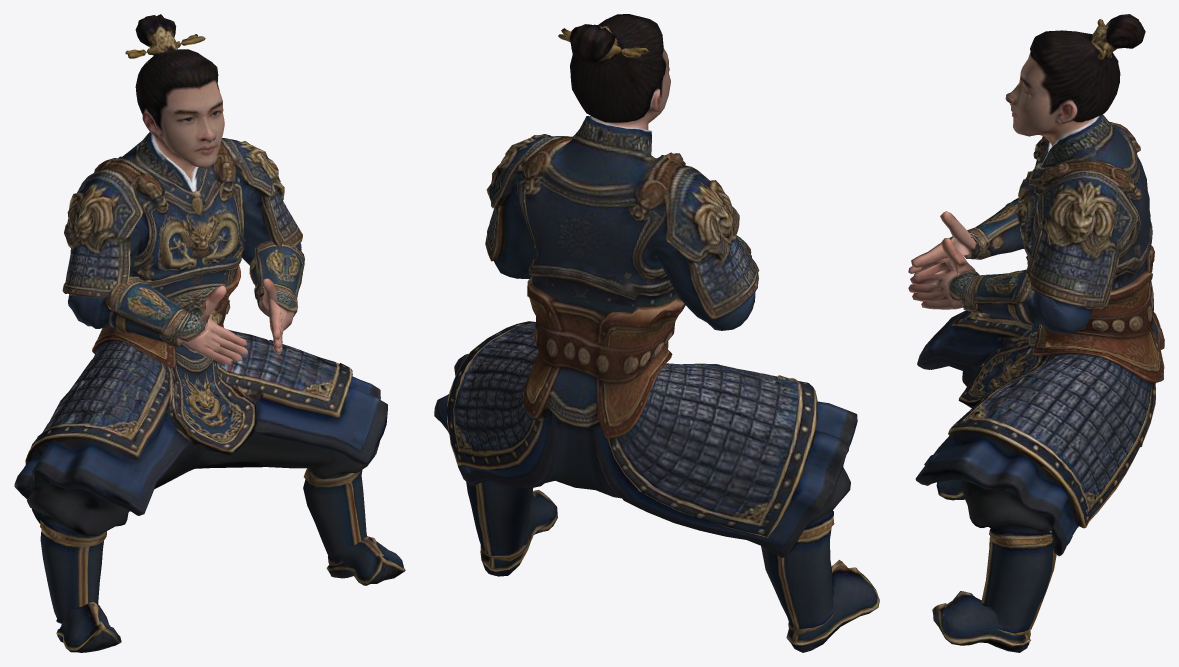
Rendered from sun-quan.glb.
3 renders of one model, left to right at view 1: azimuth 30°, elevation 25°; view 2: azimuth 150°, elevation 25°; view 3: azimuth 270°, elevation 25°, orthographic. The views are drawn at different scales.
Bounding box in the file's own units: 1.19 × 1.82 × 0.7481.
Materials: 1 (1 with a texture image).
